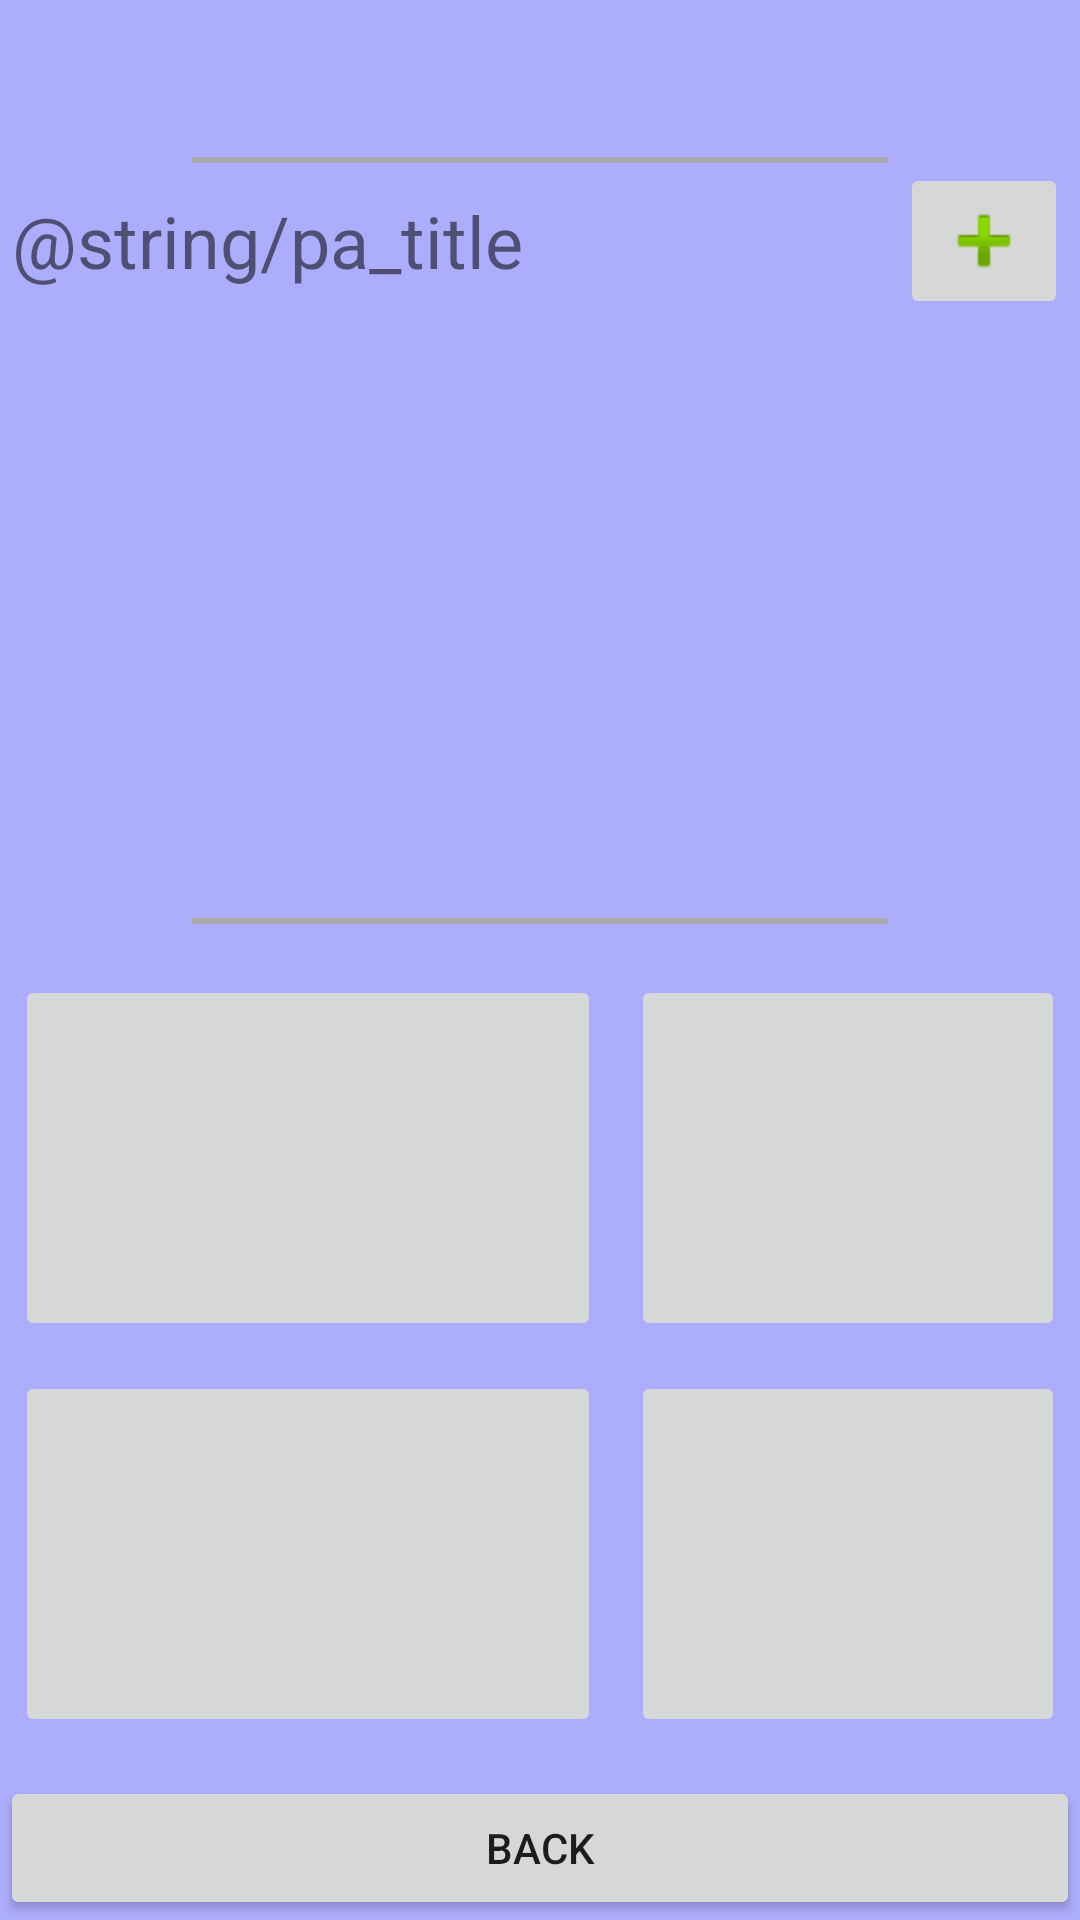

Screen size 1080x1920. Icon name, then its center in pixels as point (x, y):
add: point (984, 241)
